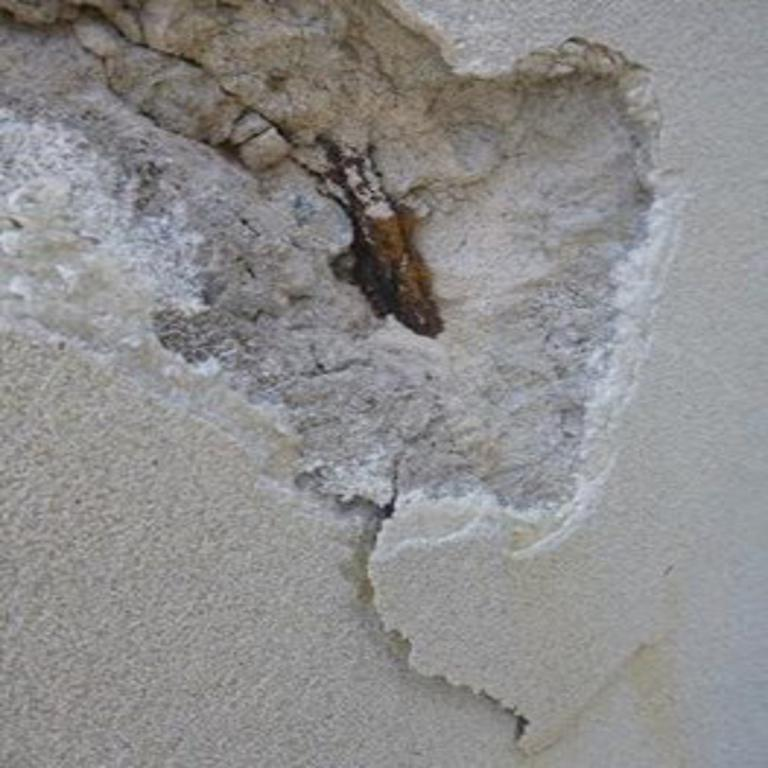exposed_rebar: (292, 141, 442, 338)
spalling: (1, 0, 674, 524)
